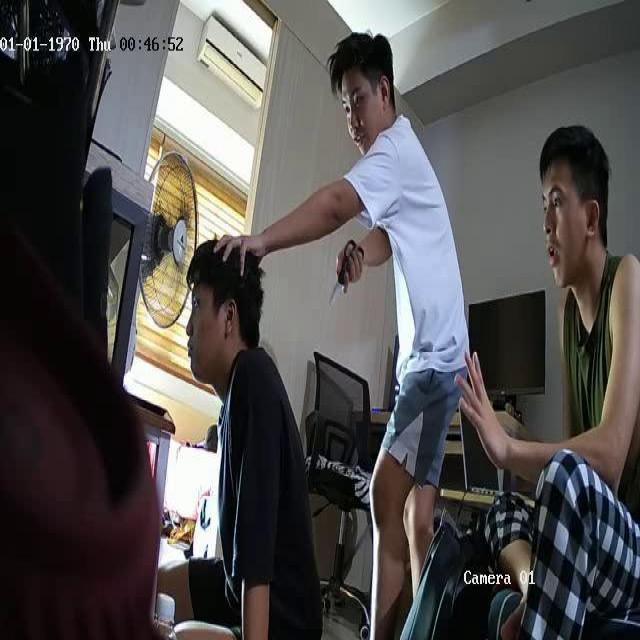scissor: (331, 236, 366, 304)
